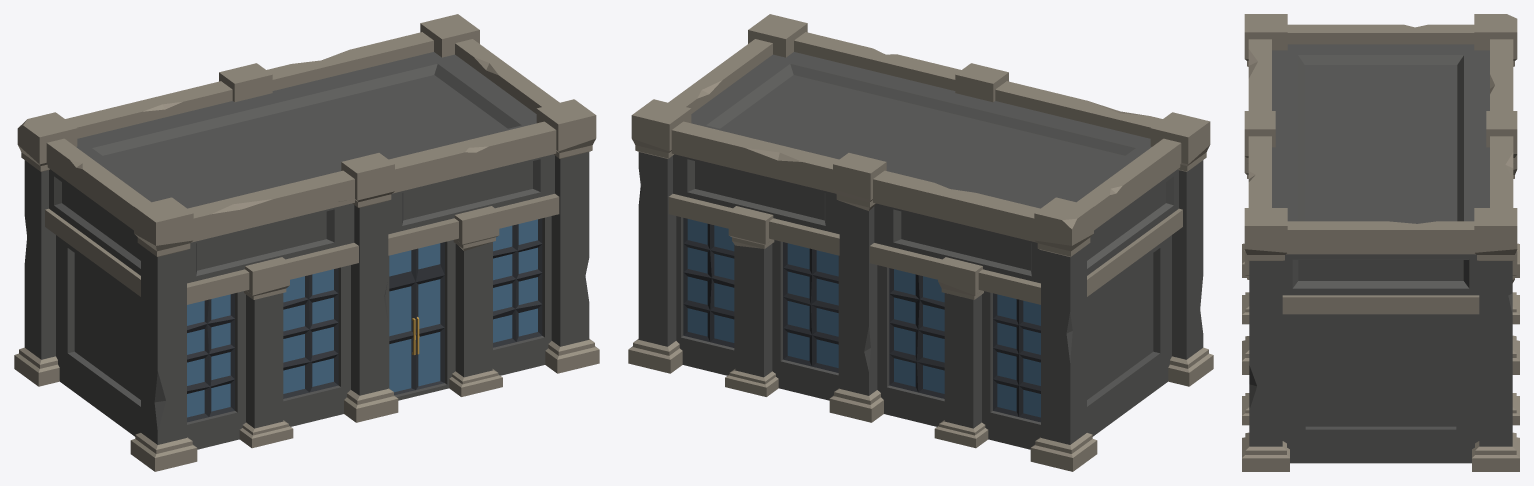
The model's file is SM_Bld_Station_03.obj.
The picture shows the model from 3 angles, left to right: view 1: azimuth 30°, elevation 25°; view 2: azimuth 150°, elevation 25°; view 3: azimuth 270°, elevation 25°; orthographic projection.
Parts seen in each view (by area): view 1: SM_Bld_Station_03_0; view 2: SM_Bld_Station_03_0; view 3: SM_Bld_Station_03_0.
Boxes of the visible parts, left/top/right/bottom form: SM_Bld_Station_03_0: left=14, top=14, right=599, bottom=471; SM_Bld_Station_03_0: left=628, top=14, right=1213, bottom=471; SM_Bld_Station_03_0: left=1242, top=14, right=1519, bottom=471.
Size of the model in its own units: 10.78 by 5.74 by 5.91.
1 material, 1 textured.
